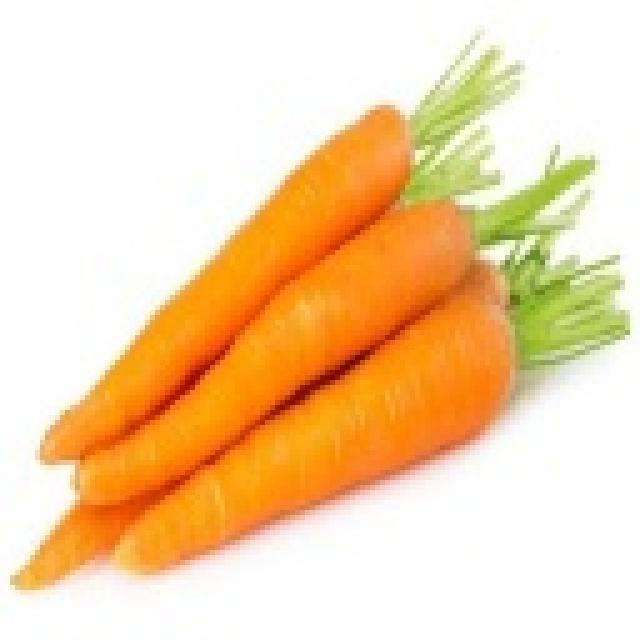carrot: (383, 307, 640, 419), (192, 130, 488, 204), (374, 206, 602, 276)
